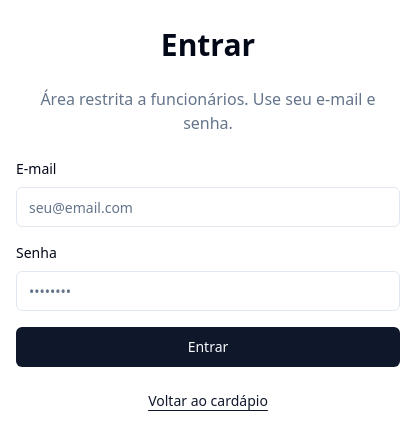
Test: Admin Login Page (Employee Auth) › login form (brief: Portuguese UI, validation) › recovers if signInWithPassword throws unexpectedly (hardening: no stuck redirecting state)
Type "emp@burger.com" into the field with placeholder "seu@email.com" at (208,207), box [16,187,400,227]
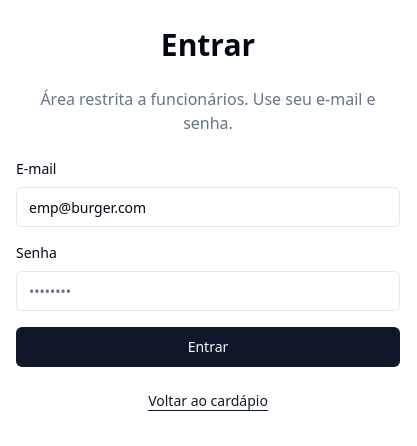
Type "validpassword" into the password field with placeholder "••••••••" at (208,291), box [16,271,400,311]
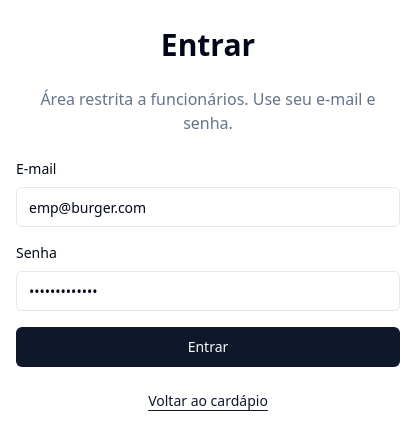
Submit the form with placeholder "seu@email.com", box [16,159,400,367]
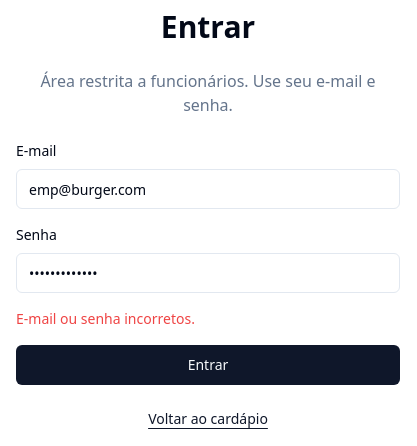
Expected: the button "Entrar" is enabled, [16,345,400,385]
Result: the text "E-mail ou senha incorretos." is shown at [16,309,195,328]
